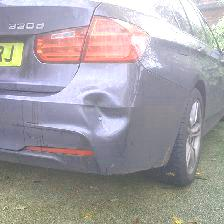bumper_dent: (80, 90, 123, 137)
